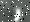person: (14, 8, 23, 22)
